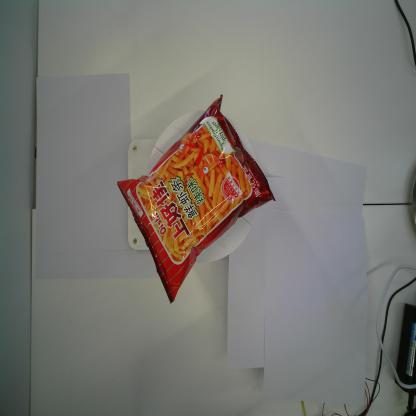Puffed Food: (116, 94, 276, 304)
